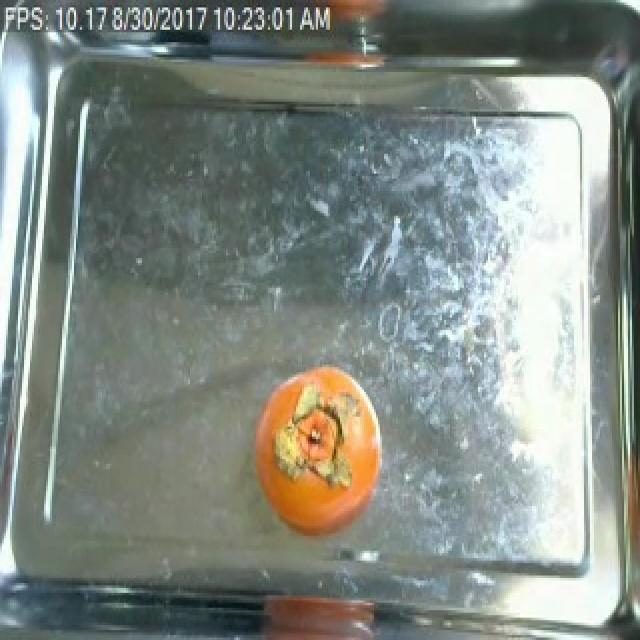Fruit: (248, 354, 388, 550), (246, 590, 388, 640)
